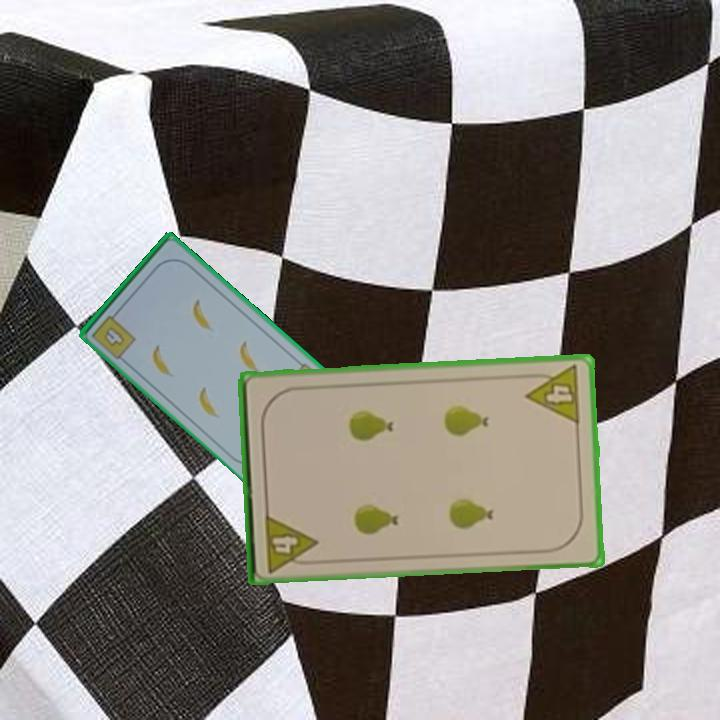4b: (88, 306, 139, 360)
4p: (522, 362, 583, 427), (261, 510, 320, 575)
